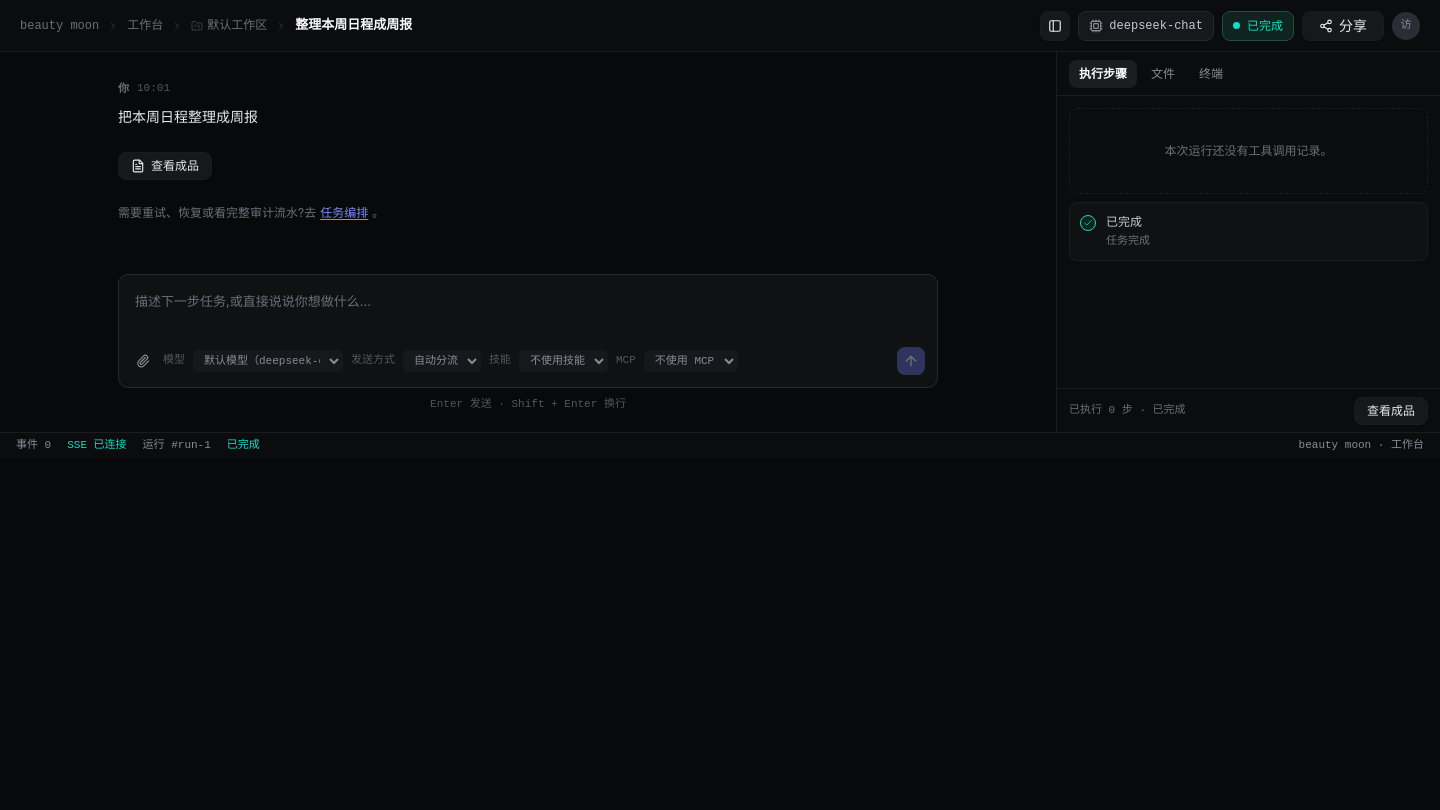
Test: ChatPage 消息、审批与交付物 › 完成后按需列出全部交付物文件
Click the button "查看成品" below "把本周日程整理成周报": click(165, 166) [118,152,212,180]
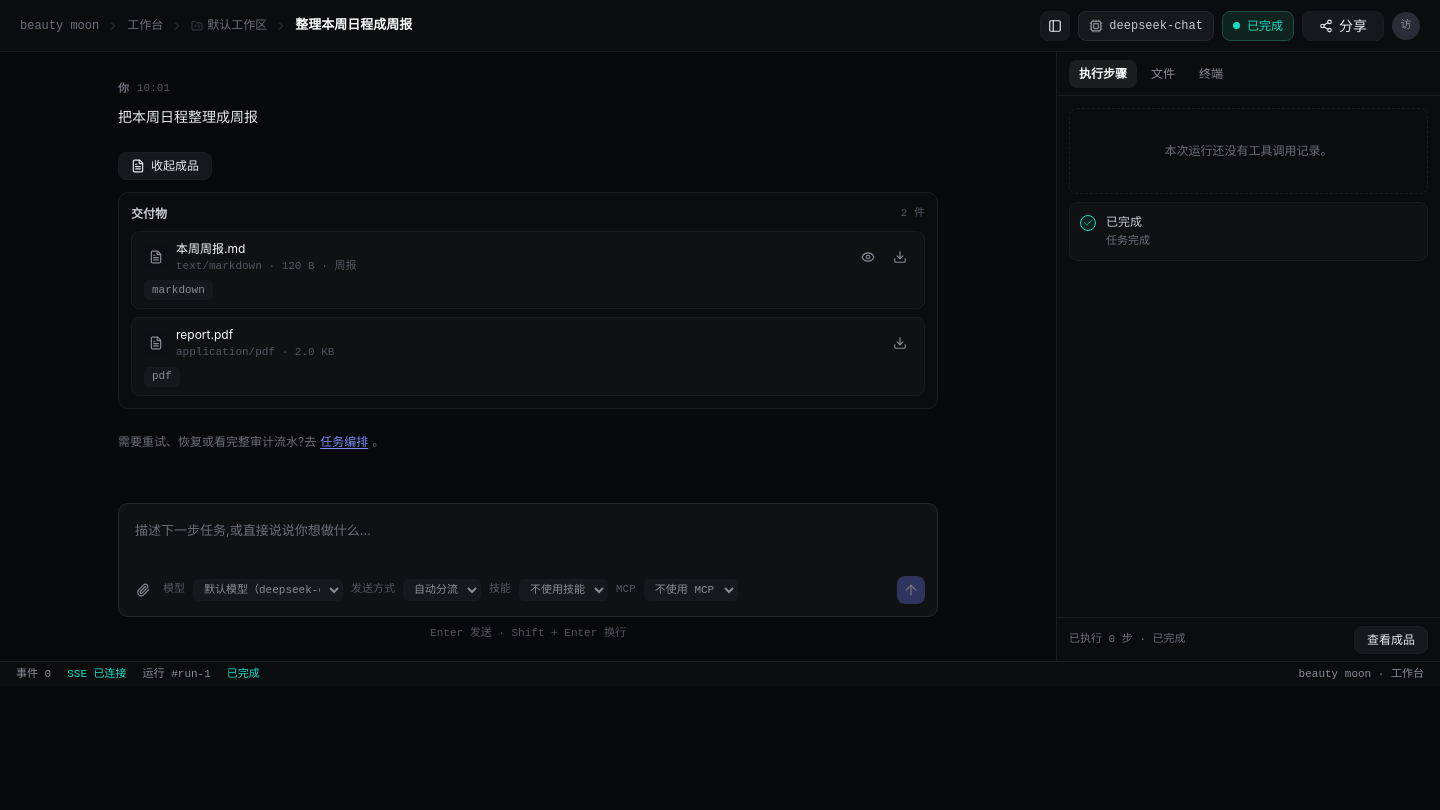
Expected: the text "本周周报.md" is shown, [176,240,245,256]
Expected: the text "report.pdf" is shown, [176,327,233,342]
